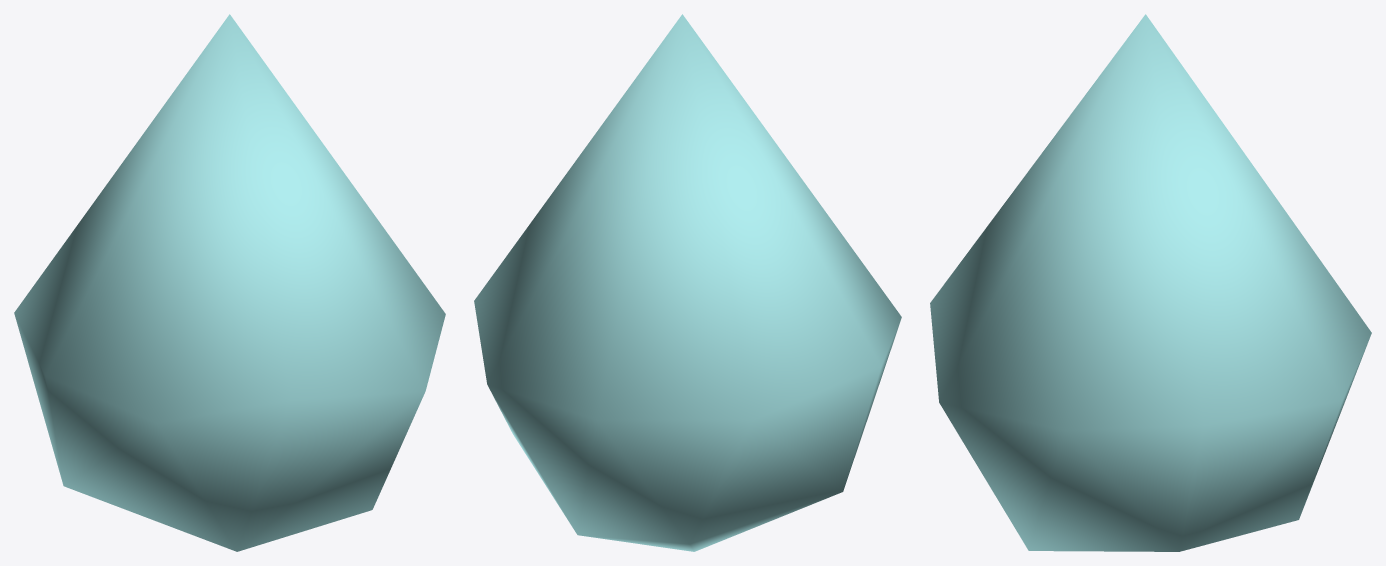
File: rain_lowpoly.obj
3 renders of one model, left to right at view 1: azimuth 30°, elevation 25°; view 2: azimuth 150°, elevation 25°; view 3: azimuth 270°, elevation 25°, orthographic. The views are drawn at different scales.
Visible parts, largest first — view 1: Standard_Drop; view 2: Standard_Drop; view 3: Standard_Drop.
Boxes of the visible parts, left/top/right/bottom form: Standard_Drop: left=14, top=14, right=445, bottom=551; Standard_Drop: left=474, top=14, right=901, bottom=551; Standard_Drop: left=930, top=14, right=1371, bottom=551.
Bounding box in the file's own units: 59.98 × 80.23 × 59.7.
1 material, 1 textured.
